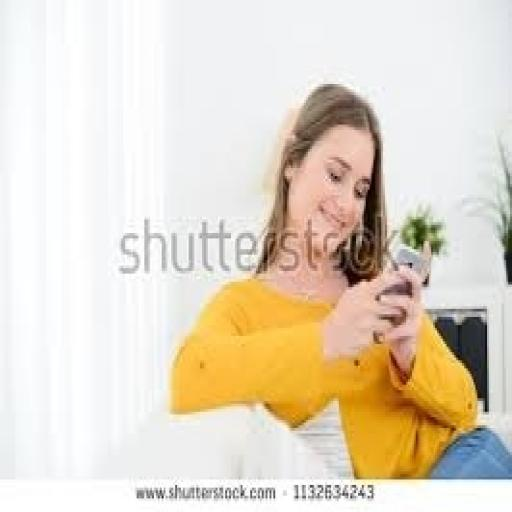calling: (166, 82, 510, 480)
